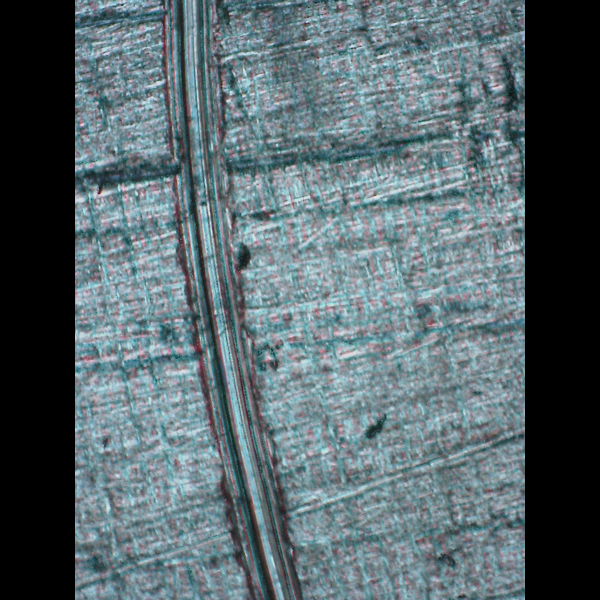d: (156, 0, 311, 599)
